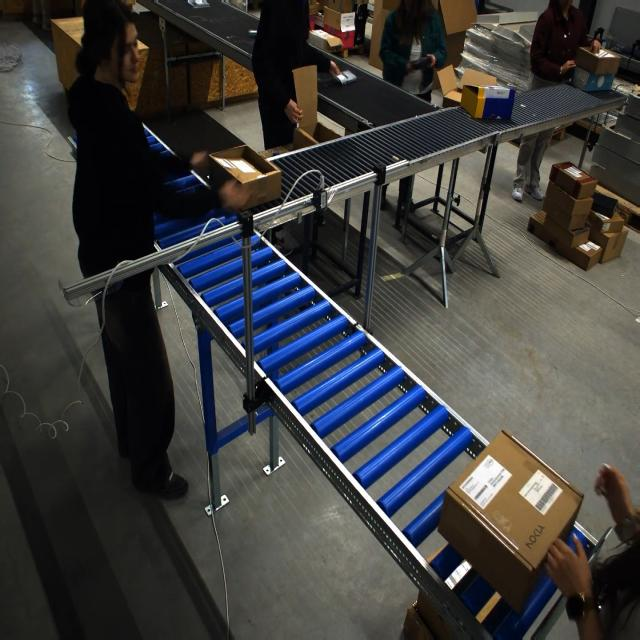box: (437, 435, 583, 614), (205, 145, 280, 211), (456, 83, 514, 120)
product: (331, 69, 358, 86), (411, 55, 433, 71), (187, 0, 210, 8), (248, 30, 257, 36)
